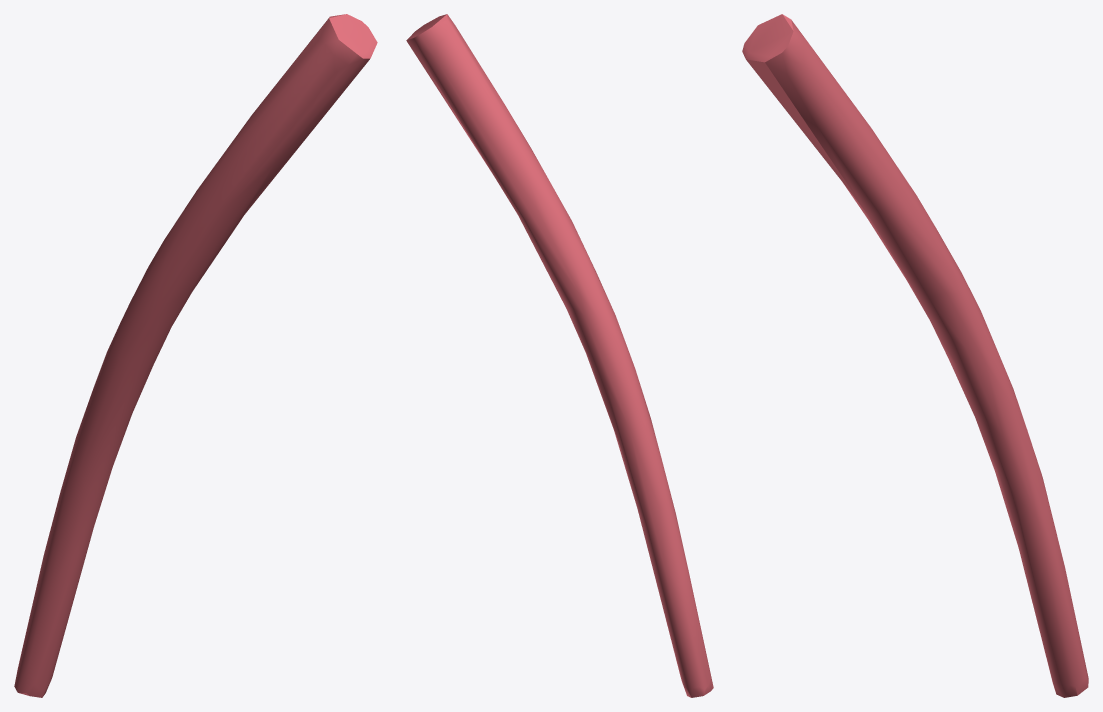
File: fma8647_fj2920.glb
3 views of the same model, side by side, from view 1: azimuth 30°, elevation 25°; view 2: azimuth 210°, elevation 25°; view 3: azimuth 270°, elevation 25° (orthographic). The views are drawn at different scales.
Visible parts, largest first — view 1: FMA8647_FJ2920; view 2: FMA8647_FJ2920; view 3: FMA8647_FJ2920.
Boxes of the visible parts, x1,y1,x2,y2 form: FMA8647_FJ2920: (14,14,377,697); FMA8647_FJ2920: (406,14,713,697); FMA8647_FJ2920: (742,14,1088,697).
Bounding box in the file's own units: 0.0122 × 0.041 × 0.017.
